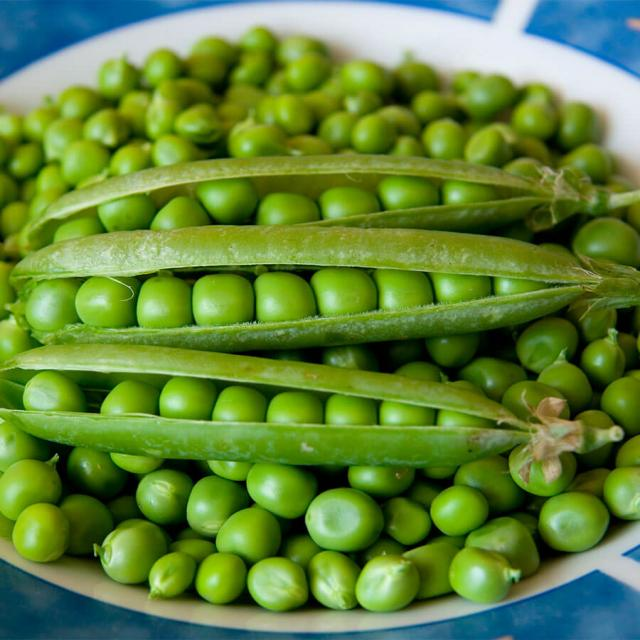Peas: (24, 456, 520, 592), (94, 44, 522, 164), (40, 260, 522, 333), (26, 370, 488, 438), (56, 169, 515, 229)
